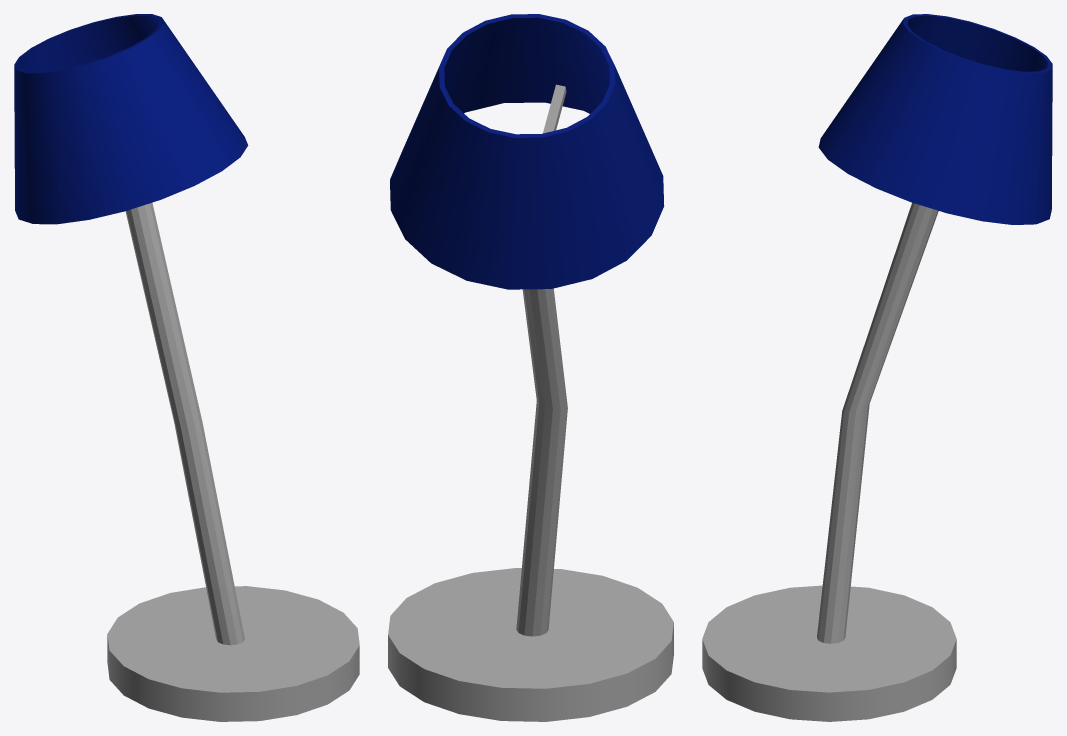
Rendered from lamp_2.fbx.
3 renders of one model, left to right at view 1: azimuth 30°, elevation 25°; view 2: azimuth 150°, elevation 25°; view 3: azimuth 270°, elevation 25°, orthographic. The views are drawn at different scales.
Visible parts, largest first — view 1: pasted__polySurface286, polySurface288; view 2: polySurface288, pasted__polySurface286; view 3: pasted__polySurface286, polySurface288.
Boxes of the visible parts, x1=… form: pasted__polySurface286: x1=107, y1=203, x2=359, y2=721; polySurface288: x1=14, y1=14, x2=248, y2=224; polySurface288: x1=390, y1=14, x2=664, y2=289; pasted__polySurface286: x1=388, y1=288, x2=673, y2=721; pasted__polySurface286: x1=702, y1=202, x2=956, y2=721; polySurface288: x1=818, y1=14, x2=1052, y2=224.
Bounding box in the file's own units: 2.4 × 5.32 × 2.75.
